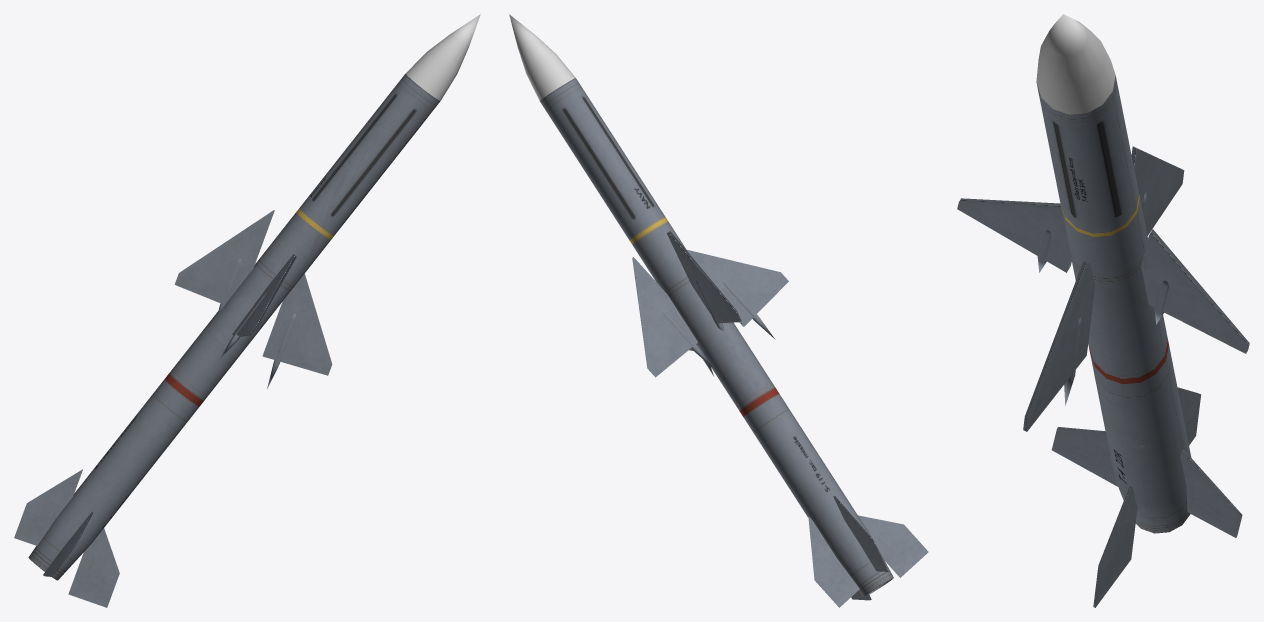
Rendered from rocket.fbx.
The picture shows the model from 3 angles, left to right: view 1: azimuth 30°, elevation 25°; view 2: azimuth 150°, elevation 25°; view 3: azimuth 270°, elevation 25°; orthographic projection. The views are drawn at different scales.
Visible parts, largest first — view 1: Cylinder, Cube.003, Cube.002, Cube.004, Cube.005, Cube; view 2: Cylinder, Cube.001, Cube, Cube.007, Cube.006, Cube.002, Cube.005; view 3: Cylinder, Cube.001, Cube, Cube.003, Cube.002, Cube.006, Cube.004, Cube.007, Cube.005.
Boxes of the visible parts, left/top/right/bottom form: Cylinder: left=28, top=14, right=480, bottom=580; Cube.003: left=262, top=273, right=332, bottom=388; Cube.002: left=174, top=210, right=274, bottom=311; Cube.004: left=68, top=528, right=119, bottom=607; Cube.005: left=14, top=469, right=82, bottom=545; Cube: left=218, top=254, right=296, bottom=361; Cylinder: left=509, top=14, right=893, bottom=597; Cube.001: left=632, top=257, right=714, bottom=377; Cube: left=687, top=250, right=788, bottom=339; Cube.007: left=858, top=515, right=928, bottom=577; Cube.006: left=808, top=517, right=859, bottom=607; Cube.002: left=667, top=231, right=741, bottom=330; Cube.005: left=833, top=496, right=887, bottom=571; Cylinder: left=1036, top=14, right=1191, bottom=533; Cube.001: left=1141, top=229, right=1249, bottom=353; Cube: left=957, top=198, right=1071, bottom=272; Cube.003: left=1023, top=261, right=1095, bottom=431; Cube.002: left=1131, top=146, right=1184, bottom=235; Cube.006: left=1180, top=449, right=1242, bottom=537; Cube.004: left=1093, top=486, right=1137, bottom=607; Cube.007: left=1051, top=427, right=1118, bottom=486; Cube.005: left=1177, top=387, right=1201, bottom=445.
Size of the model in its own units: 8.34 by 9.43 by 2.75.
